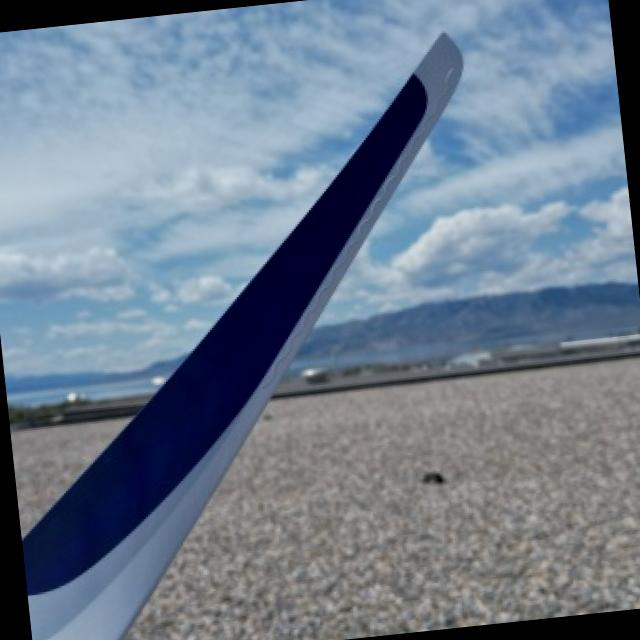healthy: (23, 30, 459, 640)
